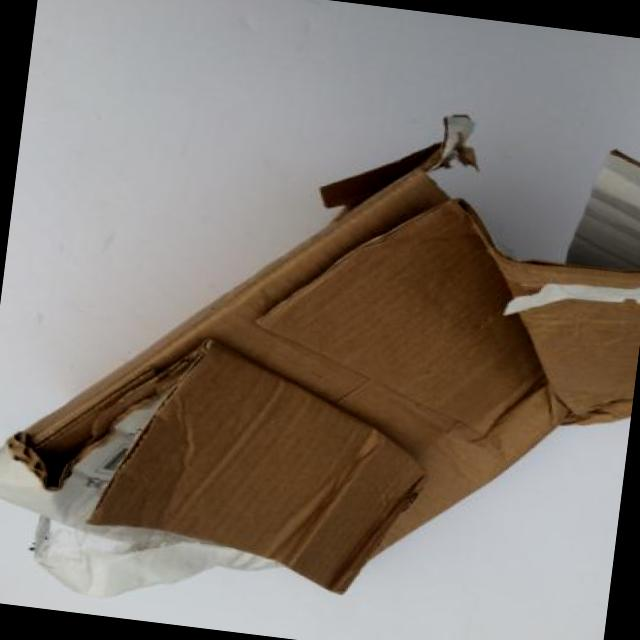cardboard: (6, 144, 639, 591)
